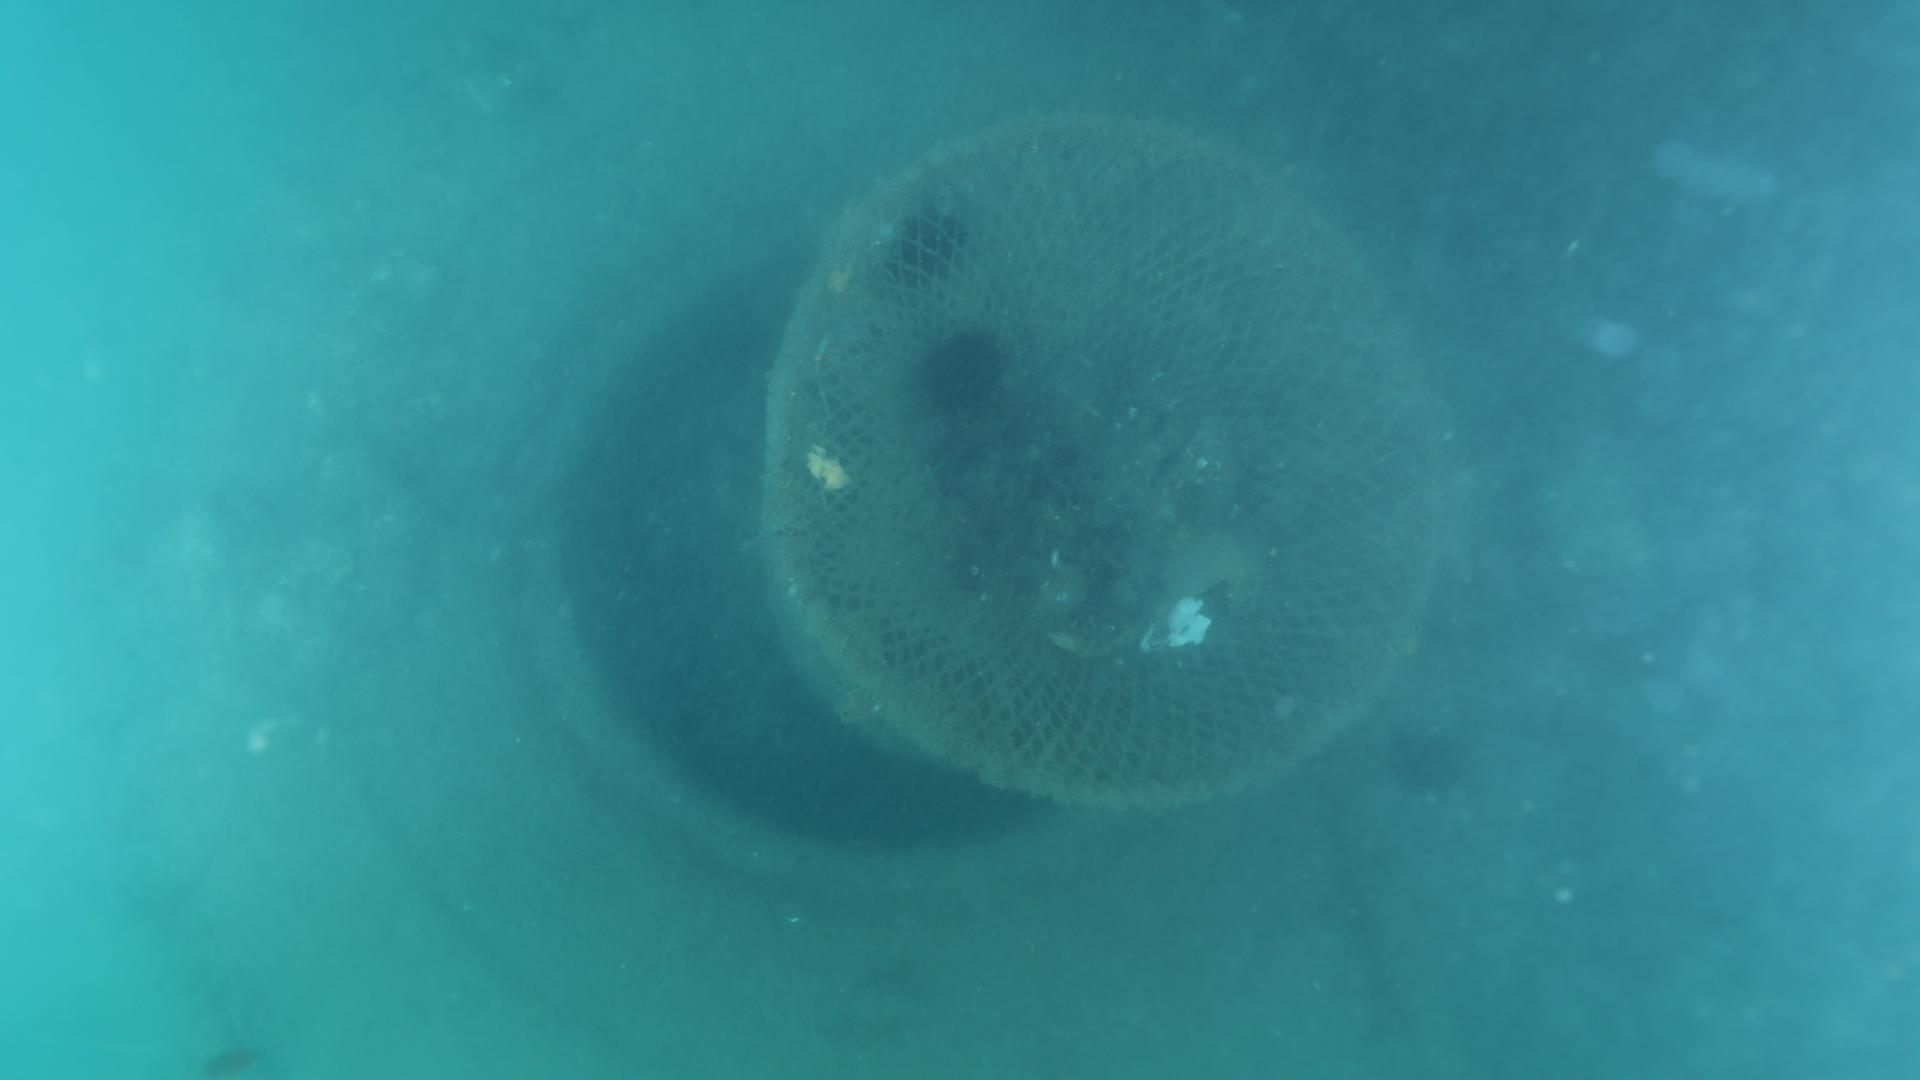circular fish trap: (760, 111, 1440, 810)
tire: (331, 54, 1549, 1080)
